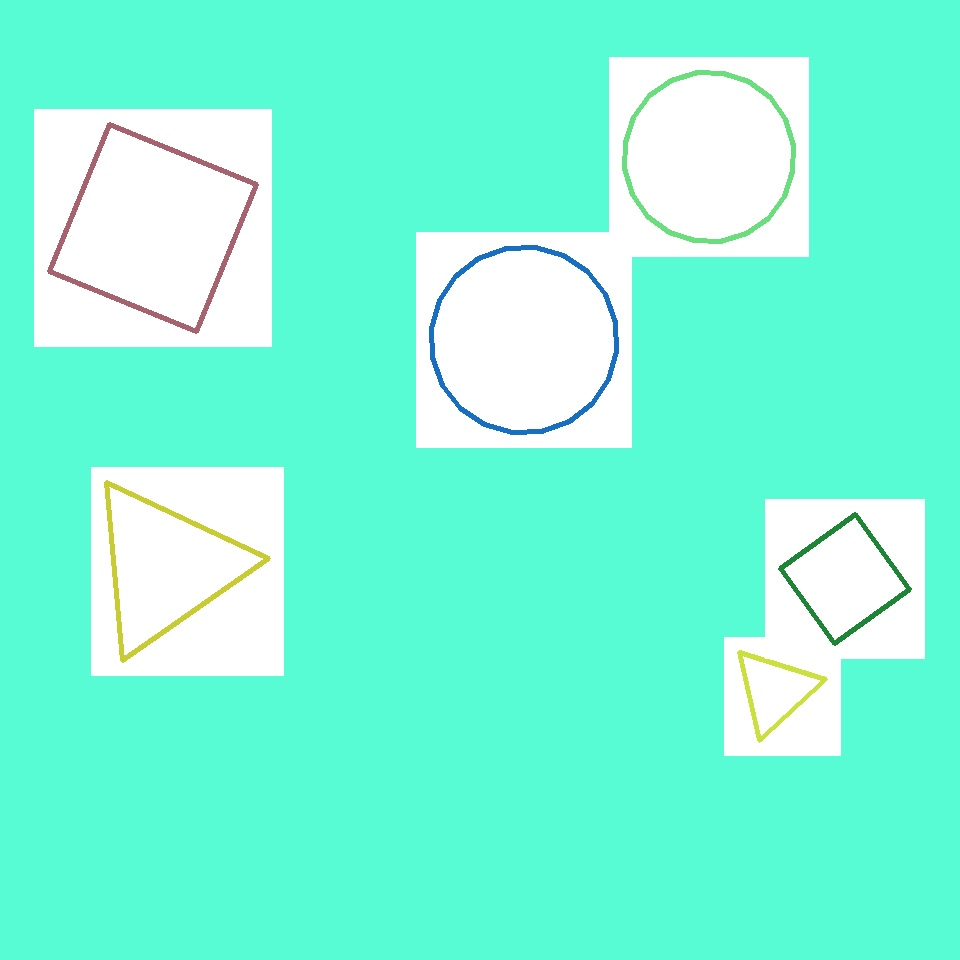circle: (152, 201, 438, 526), (57, 334, 328, 570), (665, 17, 841, 193), (85, 478, 247, 656), (723, 146, 822, 253), (732, 647, 818, 735)
square: (49, 124, 256, 332), (781, 515, 910, 644), (484, 720, 608, 844)
triangle: (200, 624, 518, 942), (431, 248, 616, 433), (624, 72, 794, 242)
